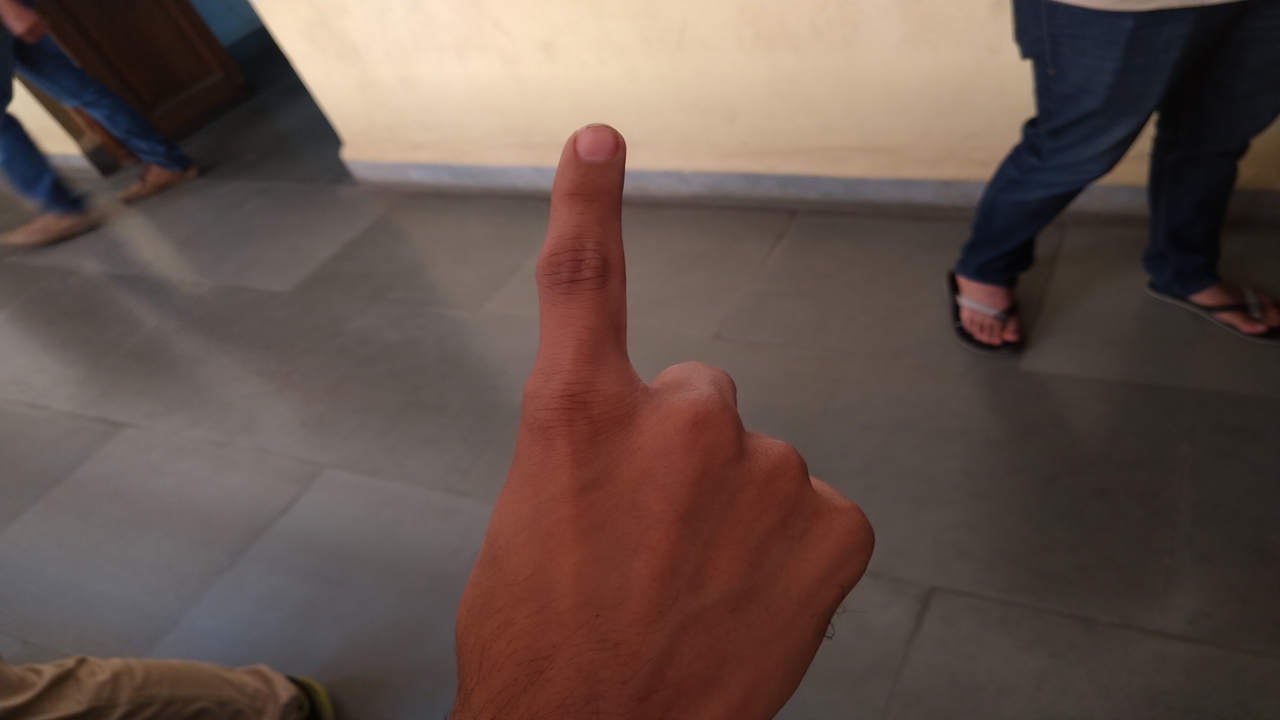fingertip: (556, 120, 628, 176)
